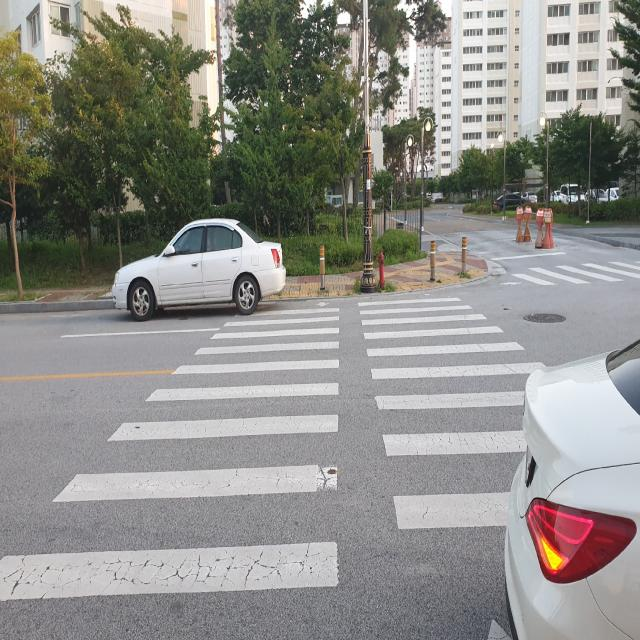횡단보도: (0, 296, 546, 639), (501, 252, 640, 286)
